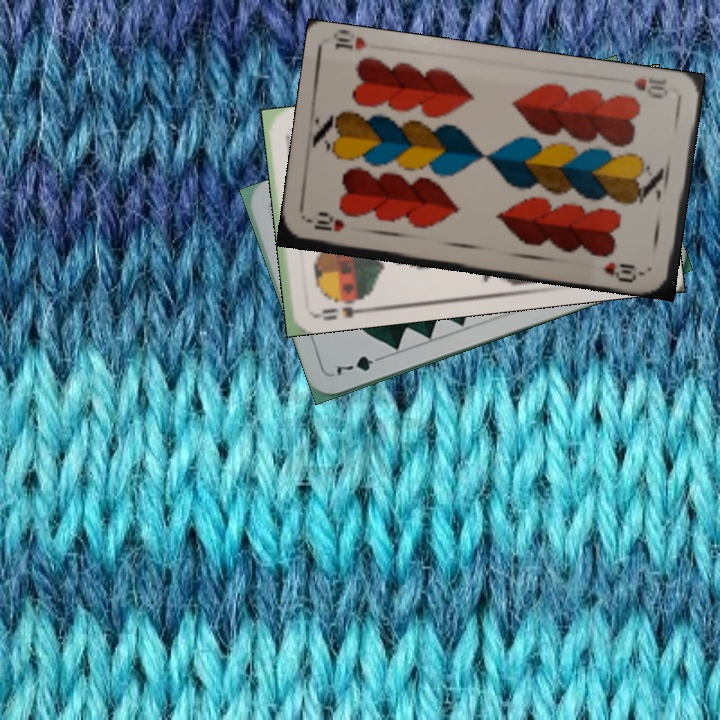G7: (331, 351, 388, 379)
H10: (629, 73, 671, 101), (305, 215, 346, 235)
SO: (309, 292, 369, 323)
